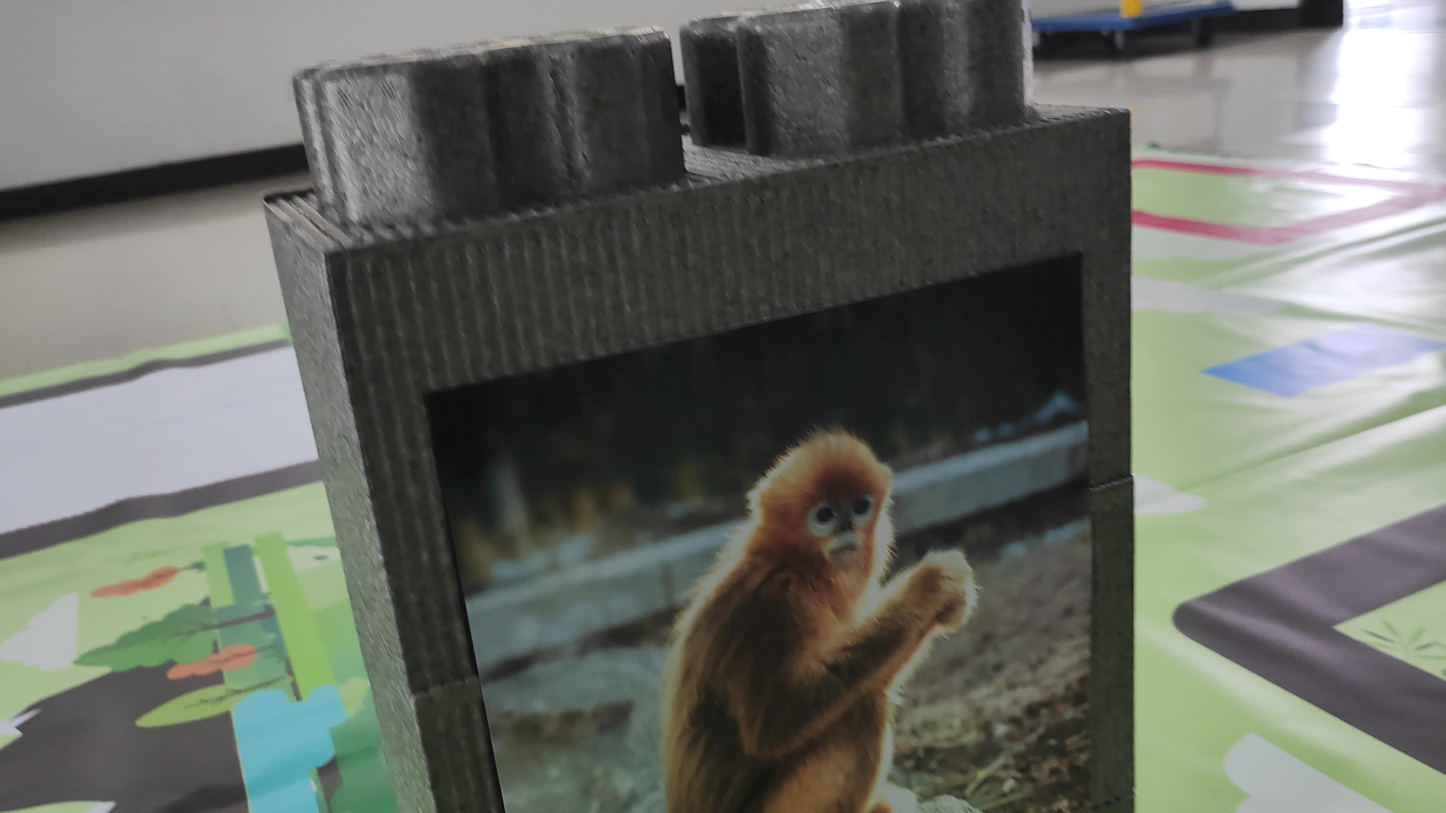monkey: (604, 404, 1023, 810)
